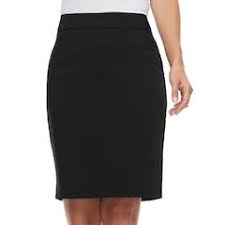F_tailored skirt: (43, 8, 170, 205)
